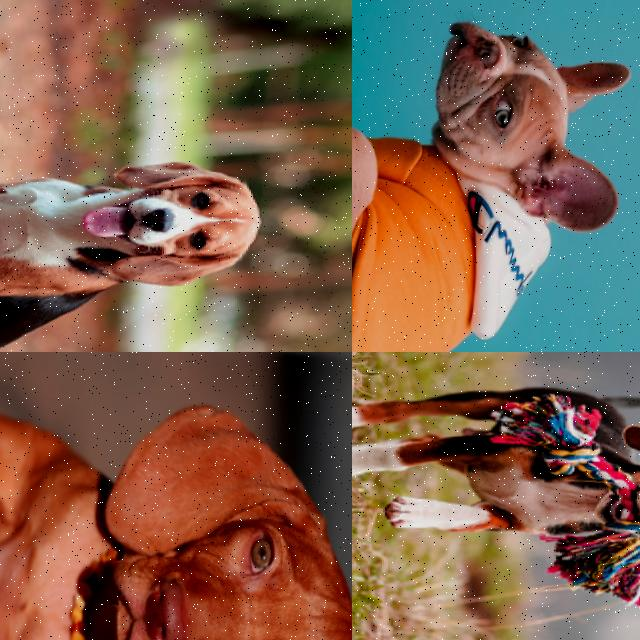beagle: (24, 368, 352, 640), (36, 144, 276, 309), (538, 415, 640, 570)
bulldog: (408, 0, 640, 267)
